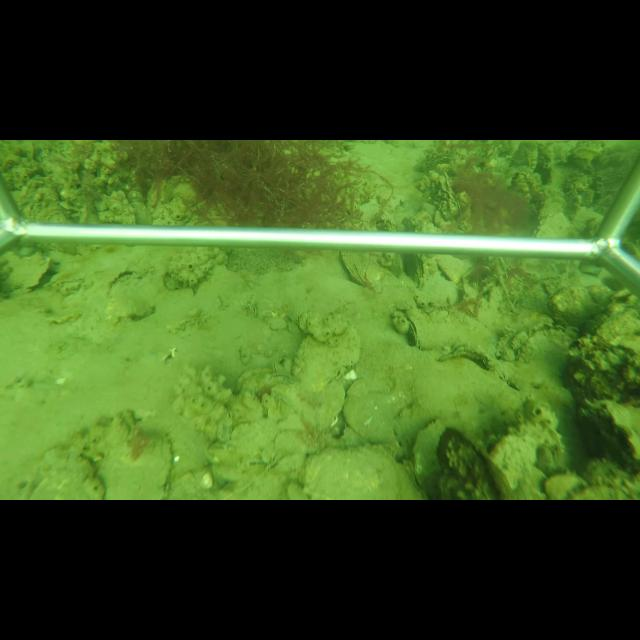Oyster-Closed: (83, 409, 176, 500), (301, 445, 426, 500), (291, 322, 363, 395), (105, 271, 157, 322), (410, 417, 447, 485), (0, 251, 54, 296), (337, 251, 388, 291), (435, 345, 496, 373), (531, 211, 580, 238), (408, 252, 429, 292)
Oyster-Open: (577, 397, 639, 468), (514, 323, 578, 358), (397, 308, 422, 348)
